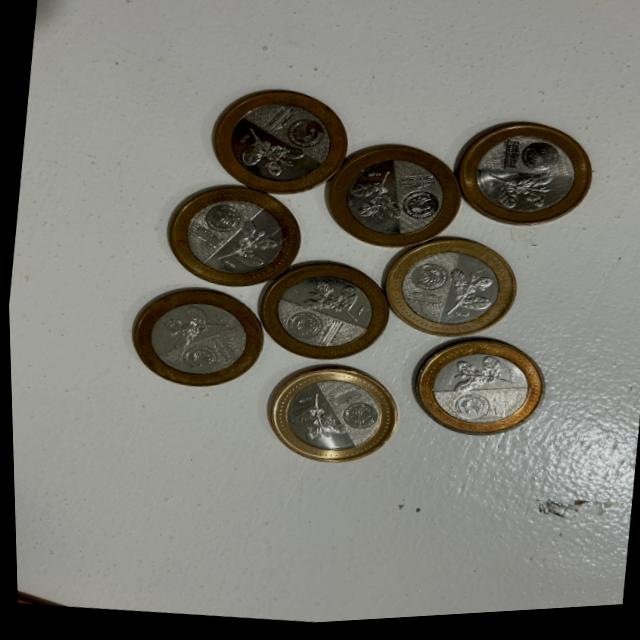20_New_Back: (275, 385, 354, 458), (213, 215, 289, 286), (435, 263, 499, 332)
